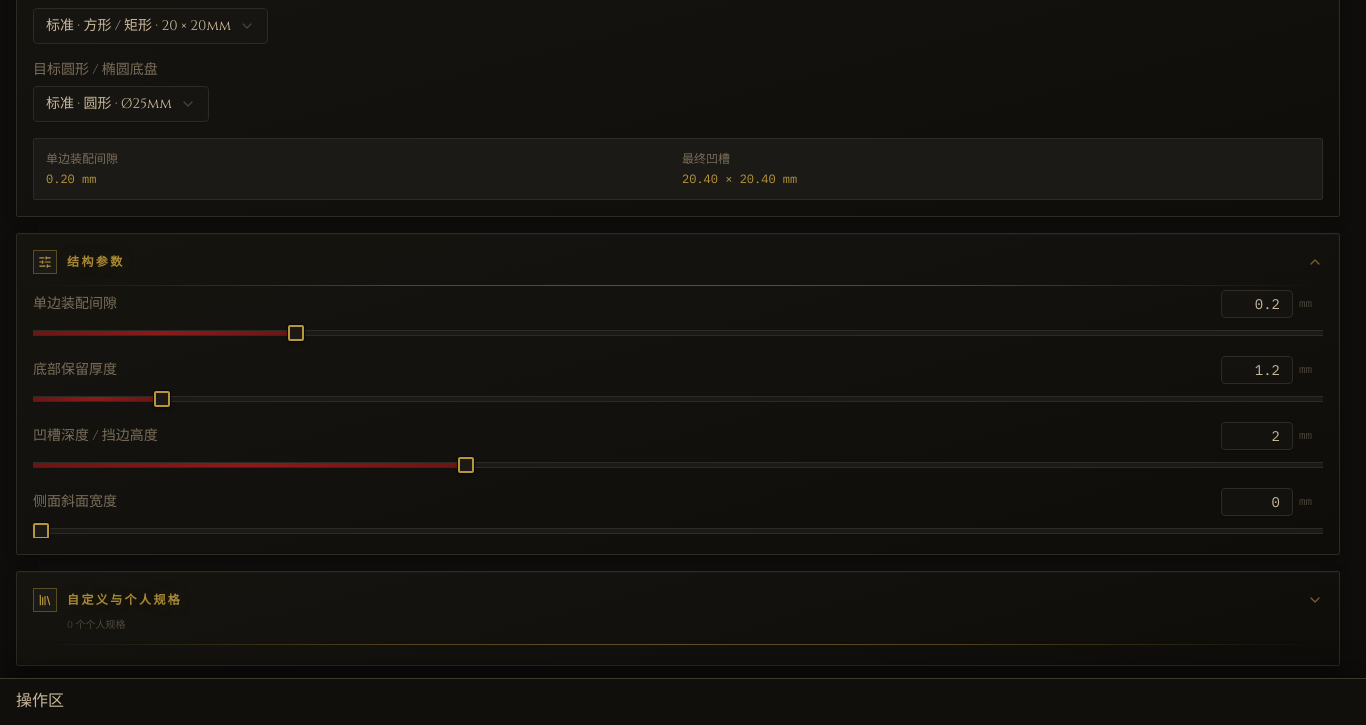
BaseConverterPanel › does not apply a personal specification when browser storage rejects it
(page scrolled)
Click the button "自定义与个人规格". click: (125,600)
box: [33,588,1323,612]
(page scrolled)
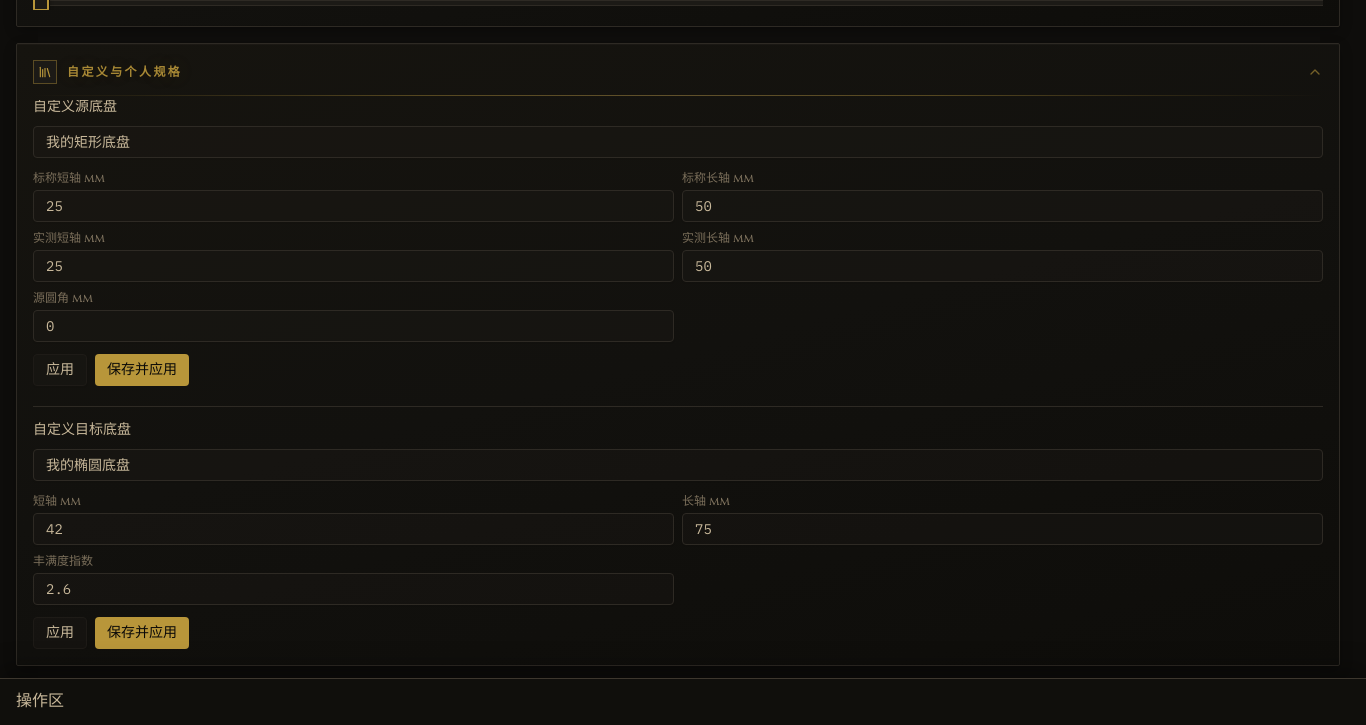
Click the button "保存并应用" below "源圆角 mm". click: (142,370)
box: [95,354,189,386]
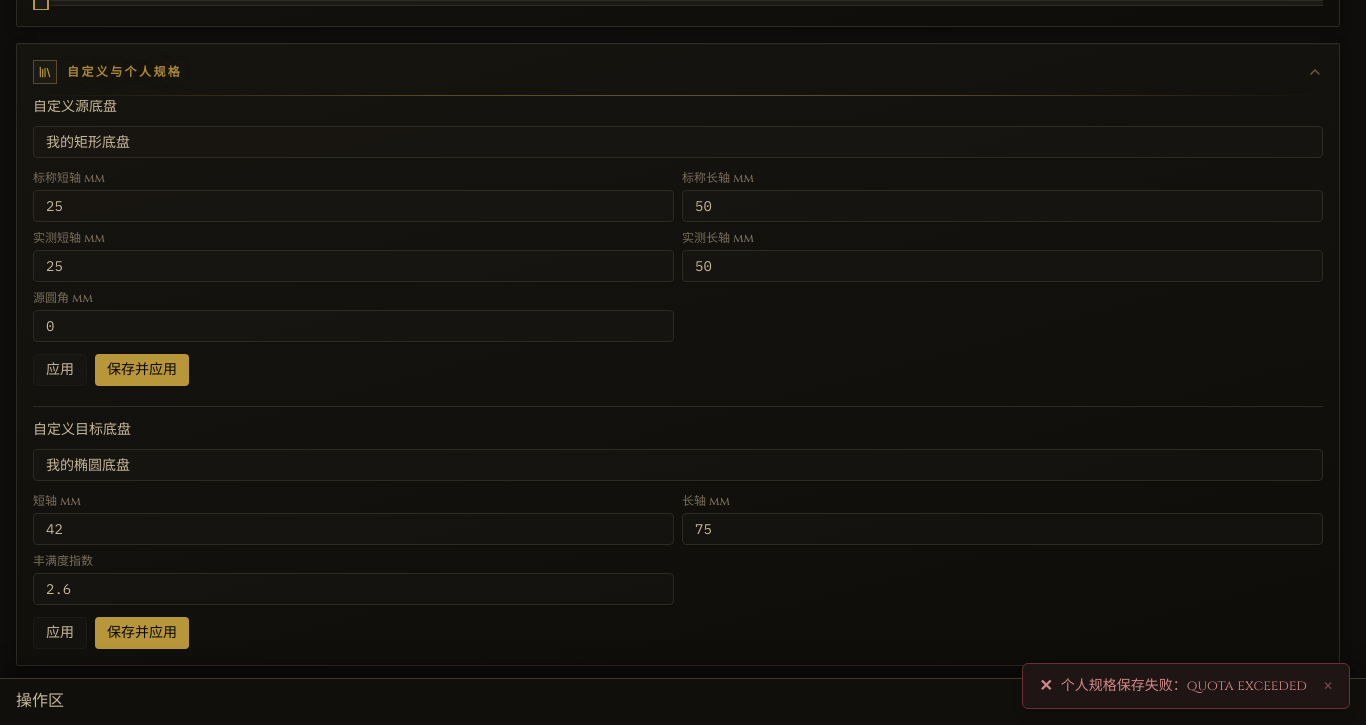
Now the message shows "个人规格保存失败：quota exceeded", box [1061,676,1307,695]
